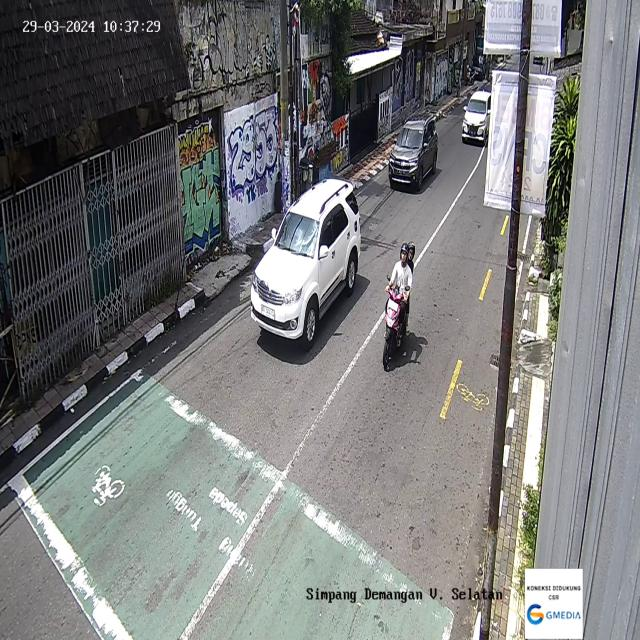car: (250, 176, 361, 352), (388, 115, 438, 192), (462, 90, 492, 145)
motorcycle: (382, 240, 416, 372)
